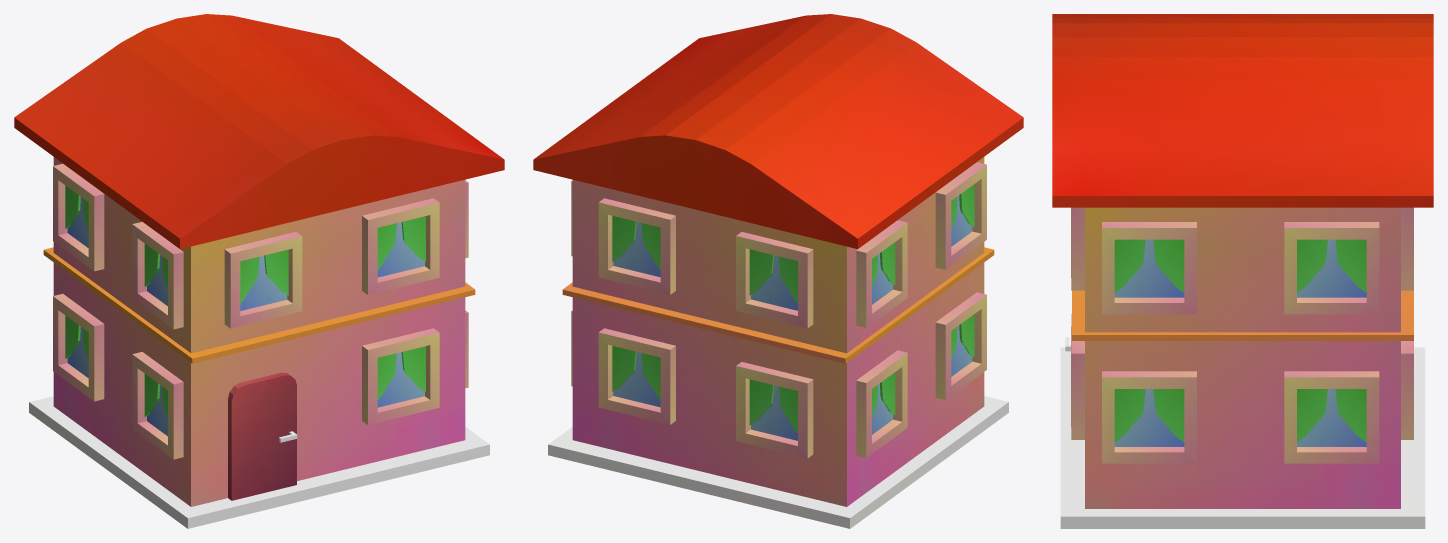
File: House_2.glb
3 views of the same model, side by side, from view 1: azimuth 30°, elevation 25°; view 2: azimuth 150°, elevation 25°; view 3: azimuth 270°, elevation 25° (orthographic). The views are drawn at different scales.
Parts seen in each view (by area): view 1: House_2; view 2: House_2; view 3: House_2.
Boxes of the visible parts, x1=… form: House_2: x1=14, y1=14, x2=504, y2=528; House_2: x1=533, y1=14, x2=1023, y2=528; House_2: x1=1052, y1=14, x2=1433, y2=528.
Bounding box in the file's own units: 813 × 849 × 720.
1 material, 1 textured.
